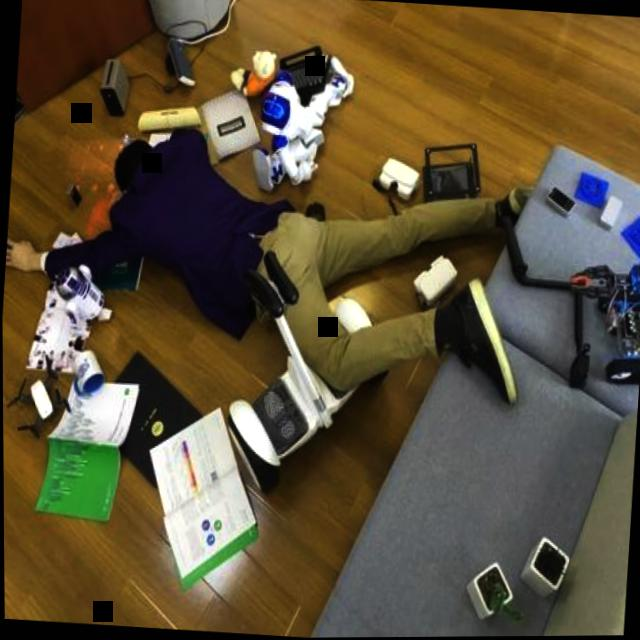Fall-Detected: (1, 88, 574, 470)
